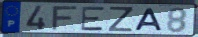4: (25, 4, 48, 32)
8: (166, 6, 190, 34)
A: (134, 7, 164, 32)
E: (80, 6, 106, 32)
F: (50, 5, 80, 32)
Z: (107, 6, 134, 33)
